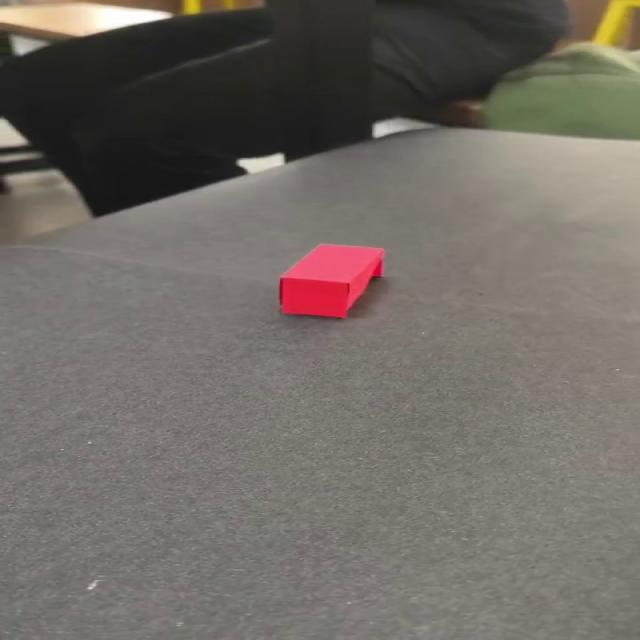red block: (278, 242, 386, 319)
